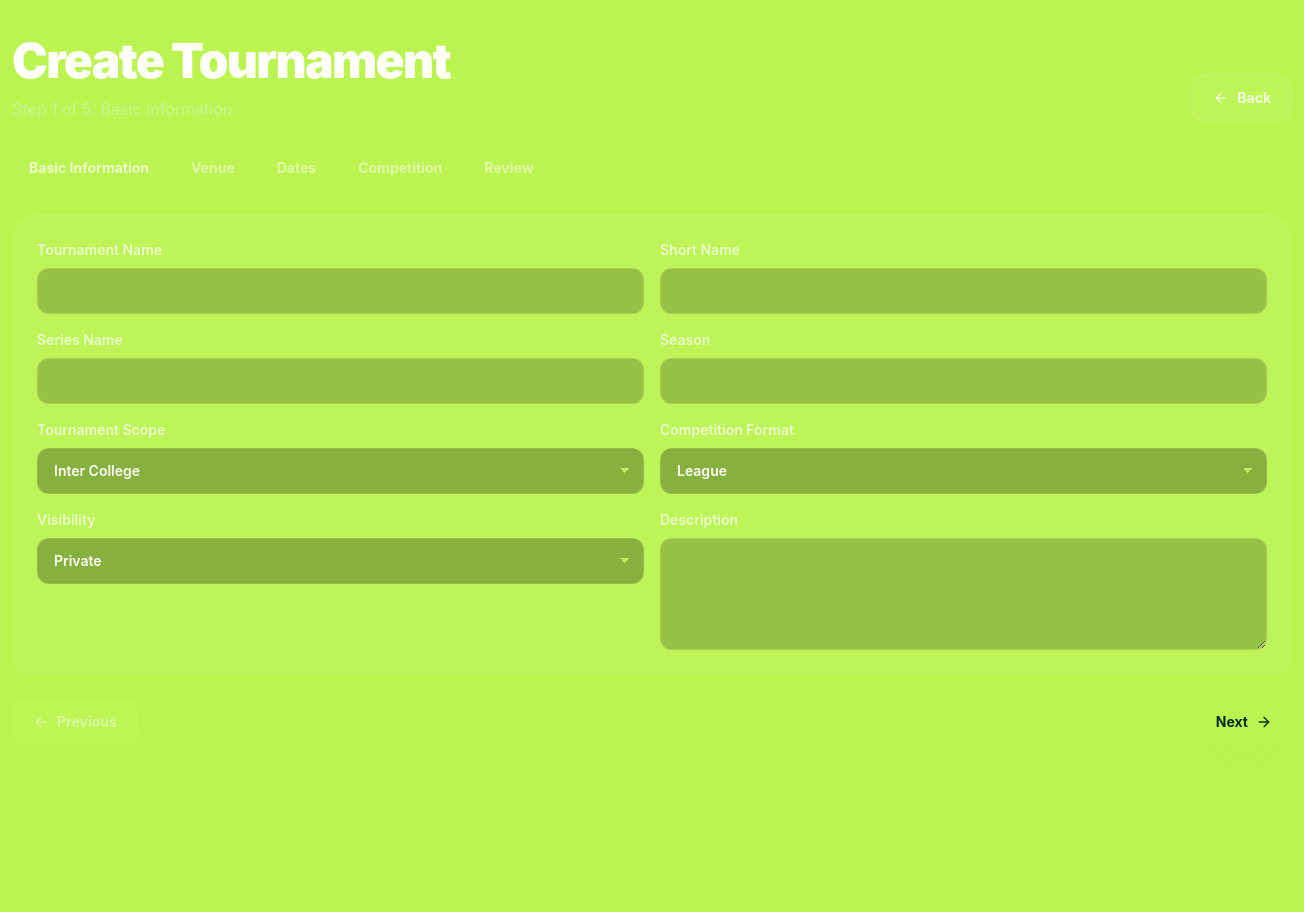
Test case: Tournament editor derives preset player counts and only custom shows total-player input
The width and height of the screenshot is (1304, 912).
Click the button "Competition" at (400, 168), box [341, 148, 459, 186]
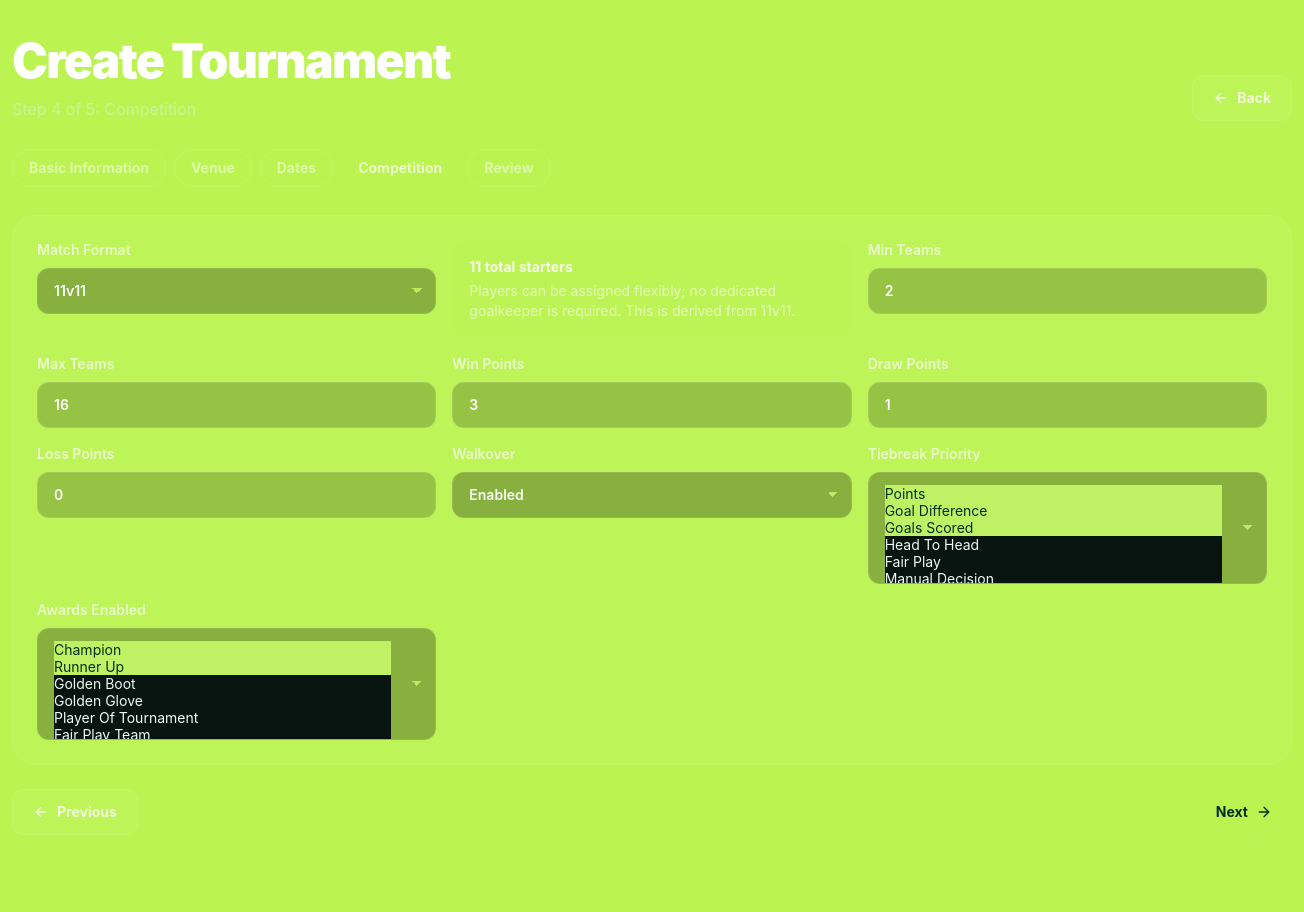
Expected: the text "11 total starters" is shown, [469, 258, 573, 274]
Select "6v6" in the dropdown labelled "Match Format" at (237, 290), box [37, 268, 436, 314]
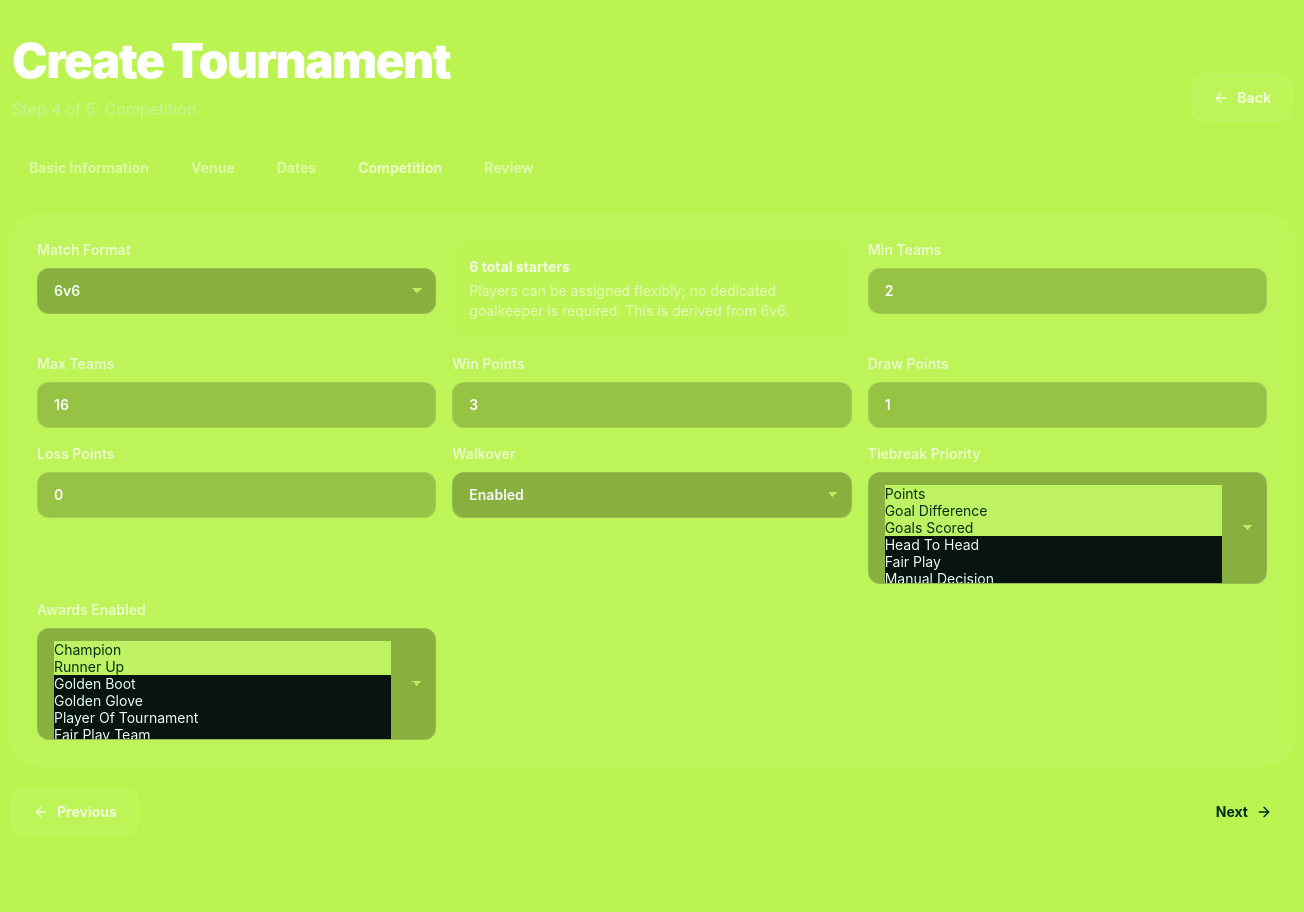
Expected: the text "Players can be assigned flexibly" is shown, [469, 282, 776, 318]
Expected: the text "6 total starters" is shown, [469, 258, 570, 274]
Select "custom" in the dropdown labelled "Match Format" at (237, 290), box [37, 268, 436, 314]
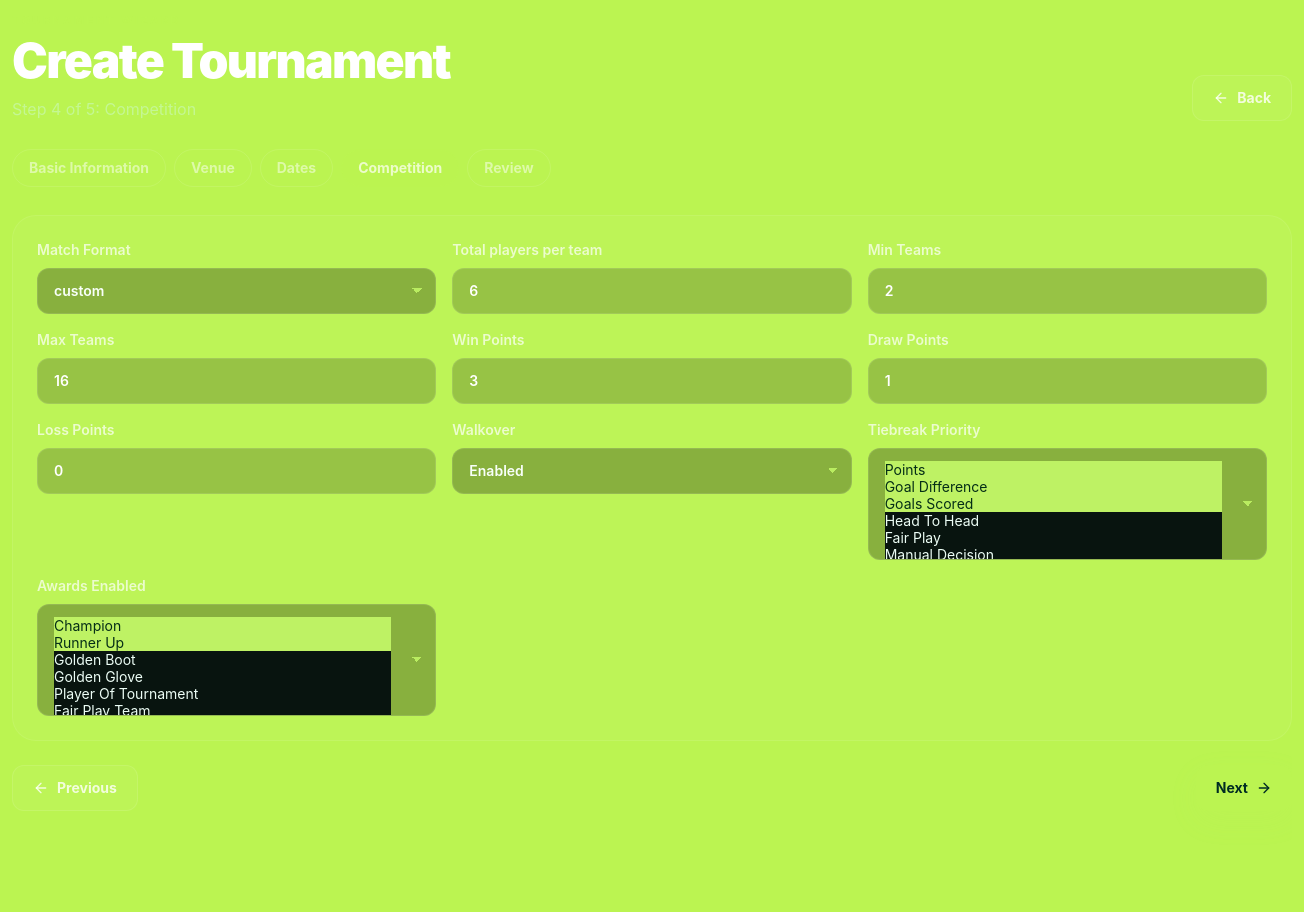
Expected: the number field labelled "Total players per team" is shown, [452, 268, 852, 314]
